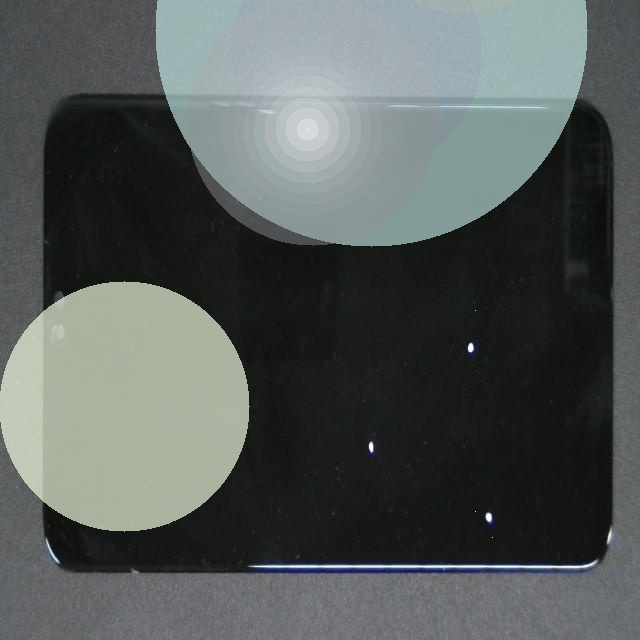stain: (172, 220, 547, 640), (227, 186, 640, 559), (234, 276, 640, 640)
